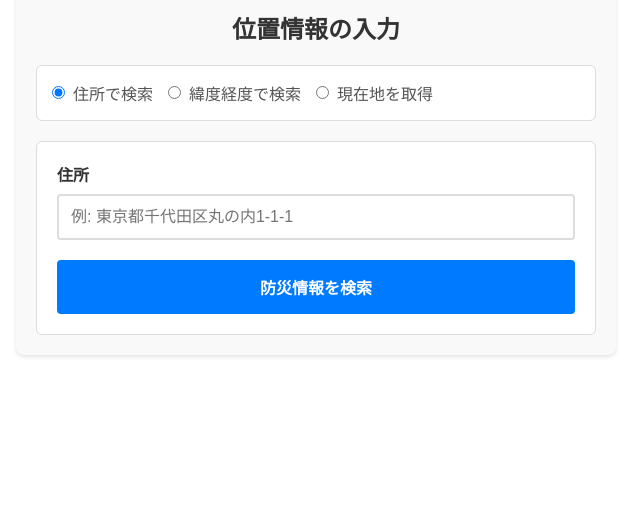
Test: LocationInputComponent › 緯度経度入力のバリデーション › 日本国外の緯度でエラーメッセージが表示される
Click the radio button labelled "緯度経度で検索" at (174, 93), box [168,86,181,99]
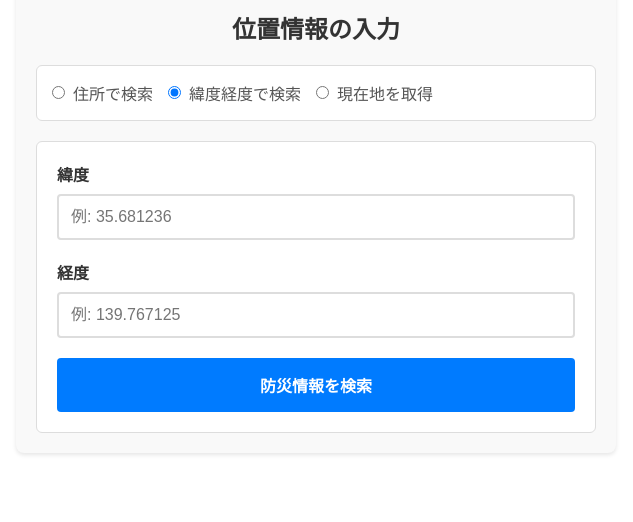
Type "10" into the number field labelled "緯度" at (316, 217), box [57,194,575,240]
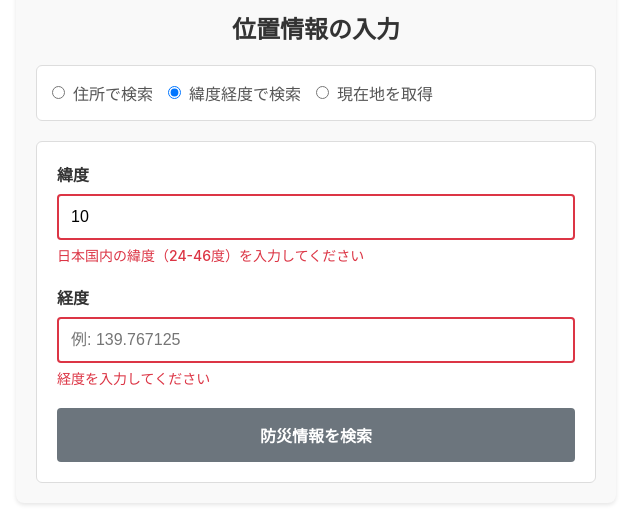
Expected: the text "日本国内の緯度（24-46度）を入力してください" is shown, [57,247,364,264]
